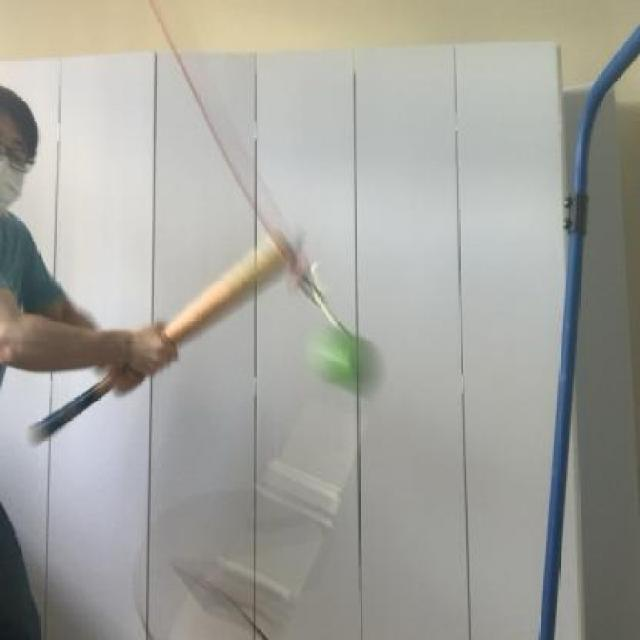baseball: (293, 310, 401, 408)
